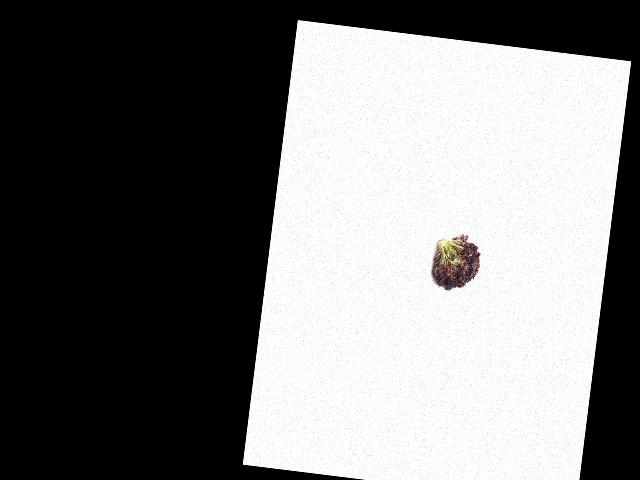lettuce: (426, 233, 484, 296)
